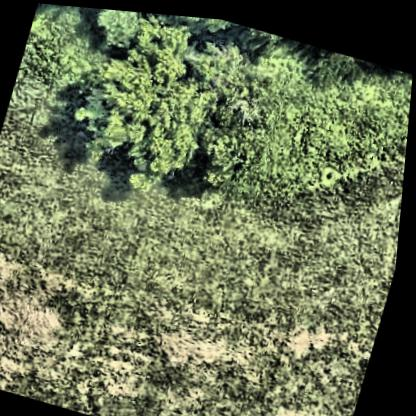tree-top: (63, 5, 237, 199), (181, 86, 275, 200), (282, 33, 380, 95), (83, 6, 148, 55)
